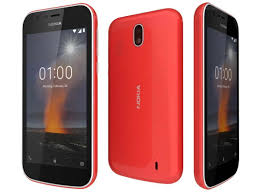nokia: (19, 3, 96, 191), (108, 7, 185, 187)
